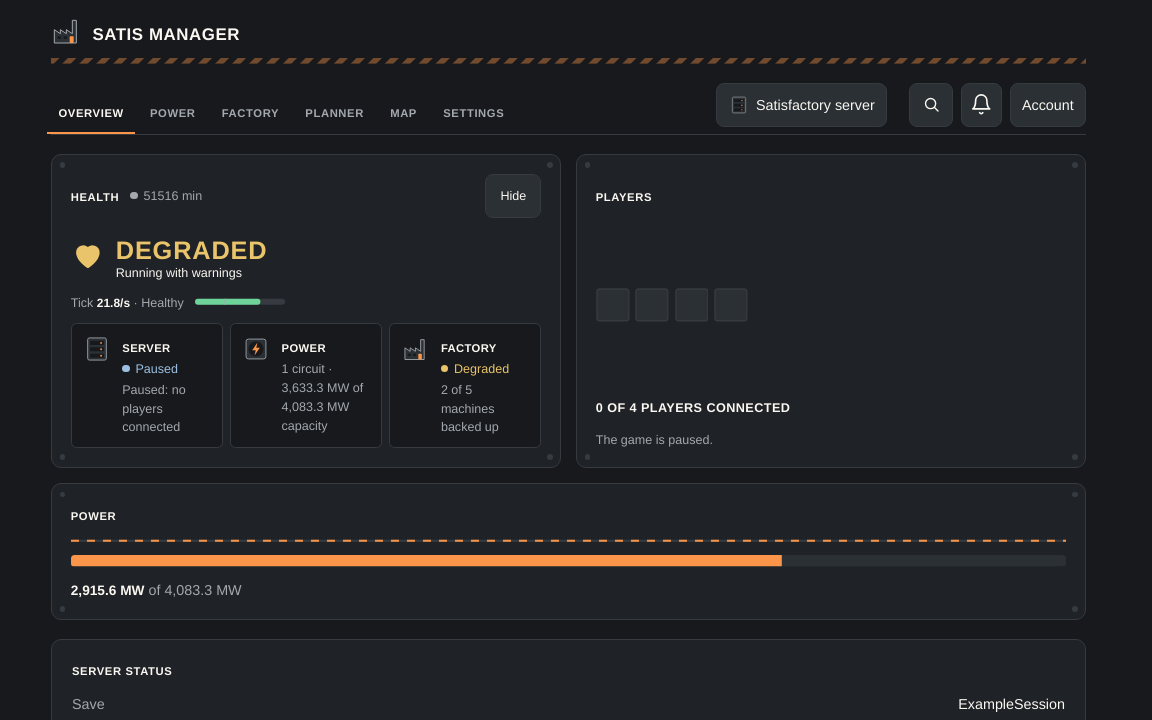
it: paused banner: which URLs count as the Overview › toggles on every navigation: Overview -> Power -> Overview -> Settings
Expected: the text "Paused: no players connected, values are frozen." is not shown
What coordinates should you click on to do the following:
click the link "Power"
I would click on:
 (173, 111)
Its box is [150,102,196,120].
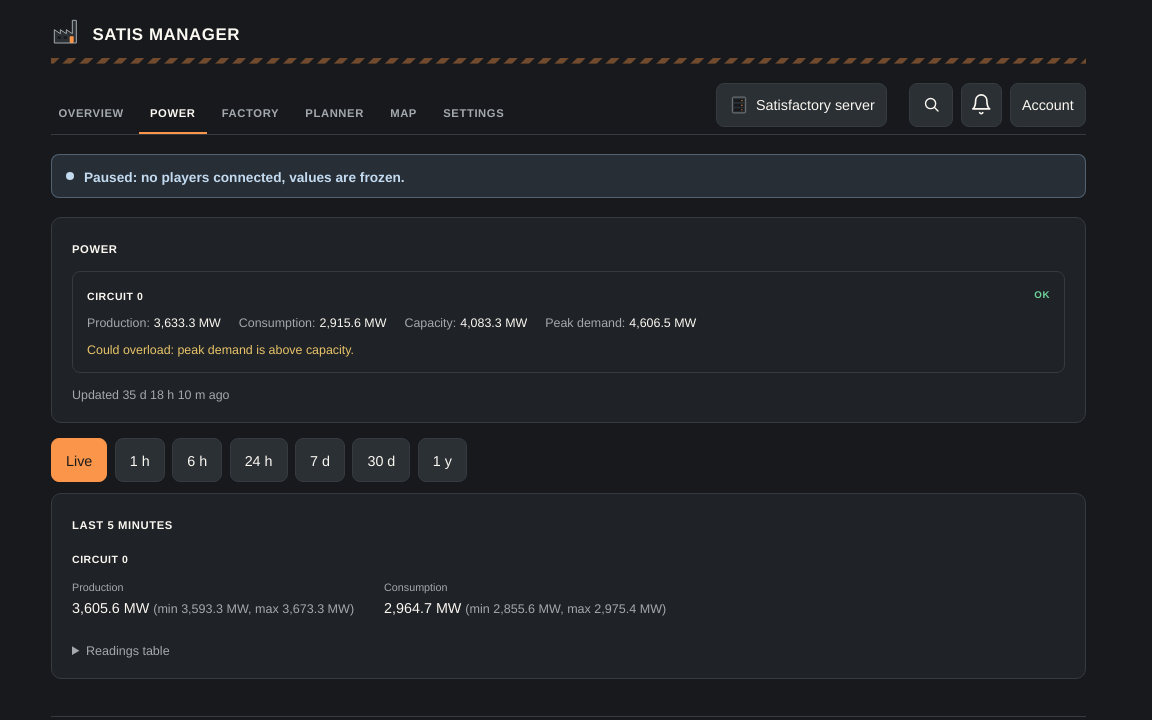
Now the text "Paused: no players connected, values are frozen." is shown, box [51,154,1086,198]
What coordinates should you click on to do the following:
click the link "Overview"
I would click on:
 (91, 111)
Its box is [58,102,124,120].
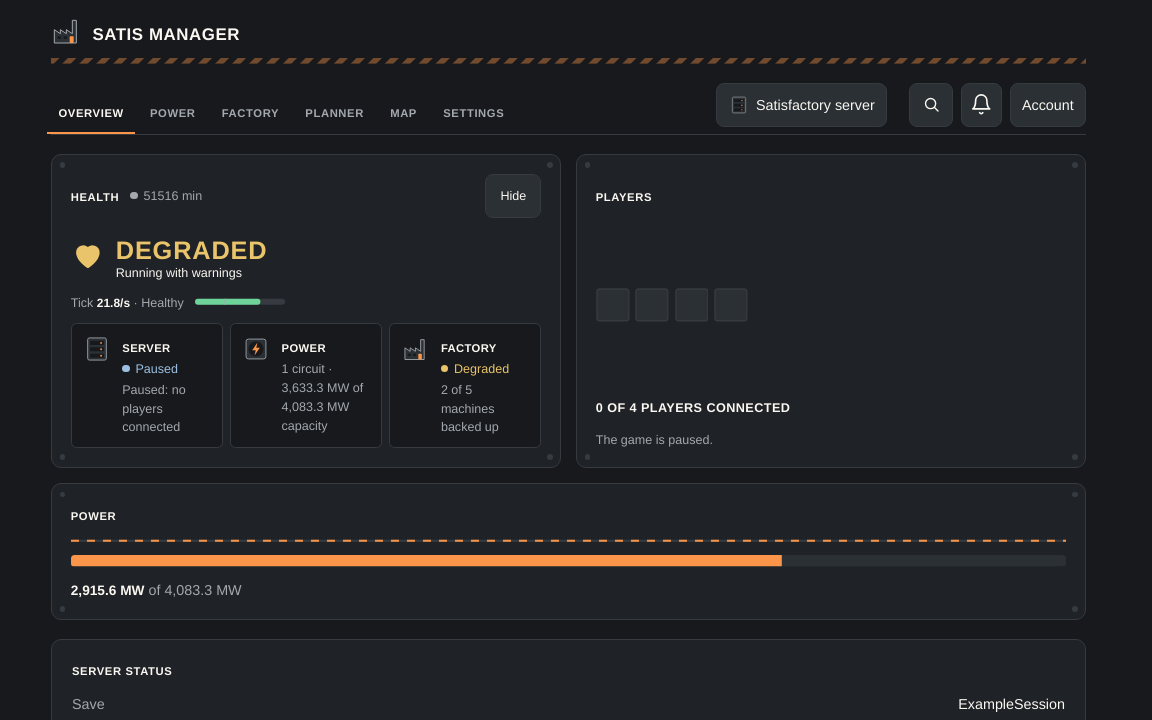
Now the text "Paused: no players connected, values are frozen." is gone
What coordinates should you click on to do the following:
click the link "Settings"
I would click on:
 (474, 111)
Its box is [443,102,504,120].
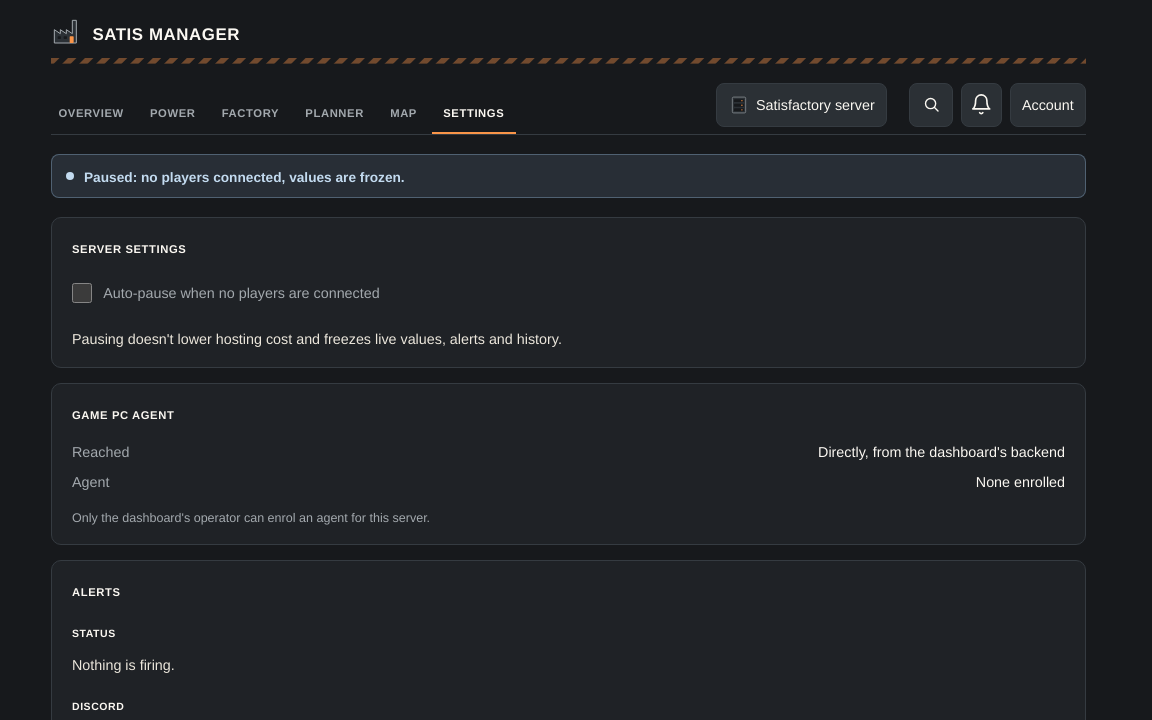
Now the text "Paused: no players connected, values are frozen." is shown, box [51,154,1086,198]
